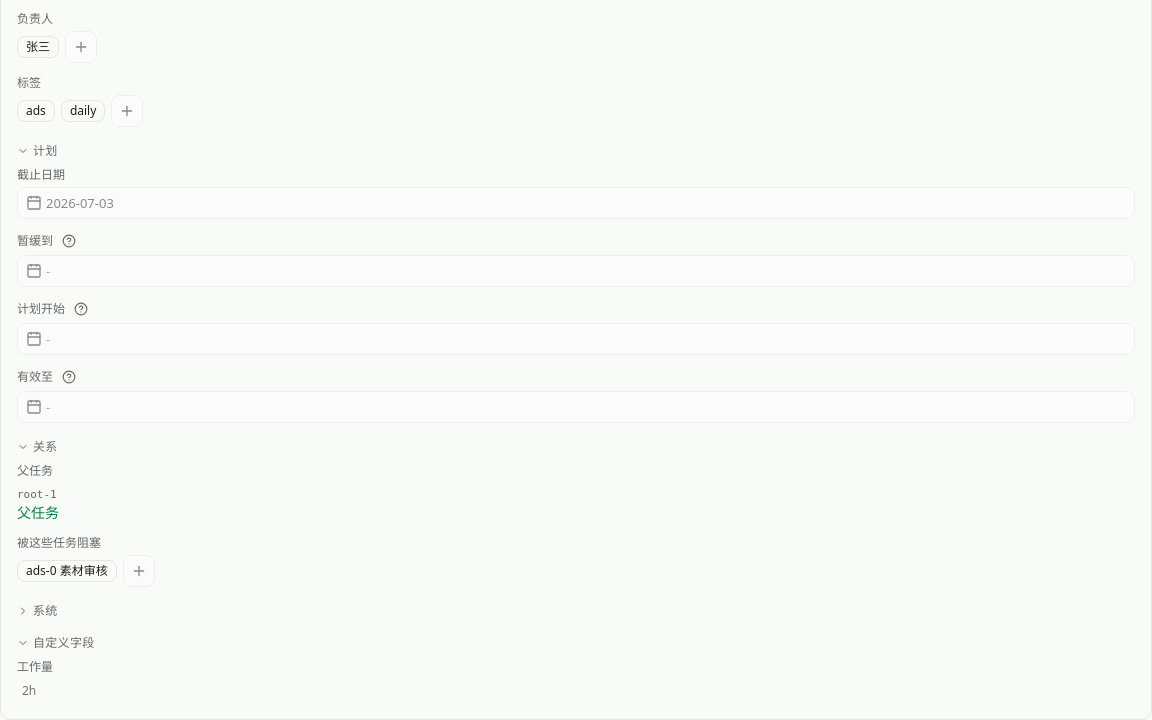
Test: TaskPropertyPanel › renders numeric entry and modified timestamps from occurrence responses
The image size is (1152, 720).
(page scrolled)
Click the button "系统".
click(23, 611)  # box x1=17 y1=603 x2=1135 y2=619
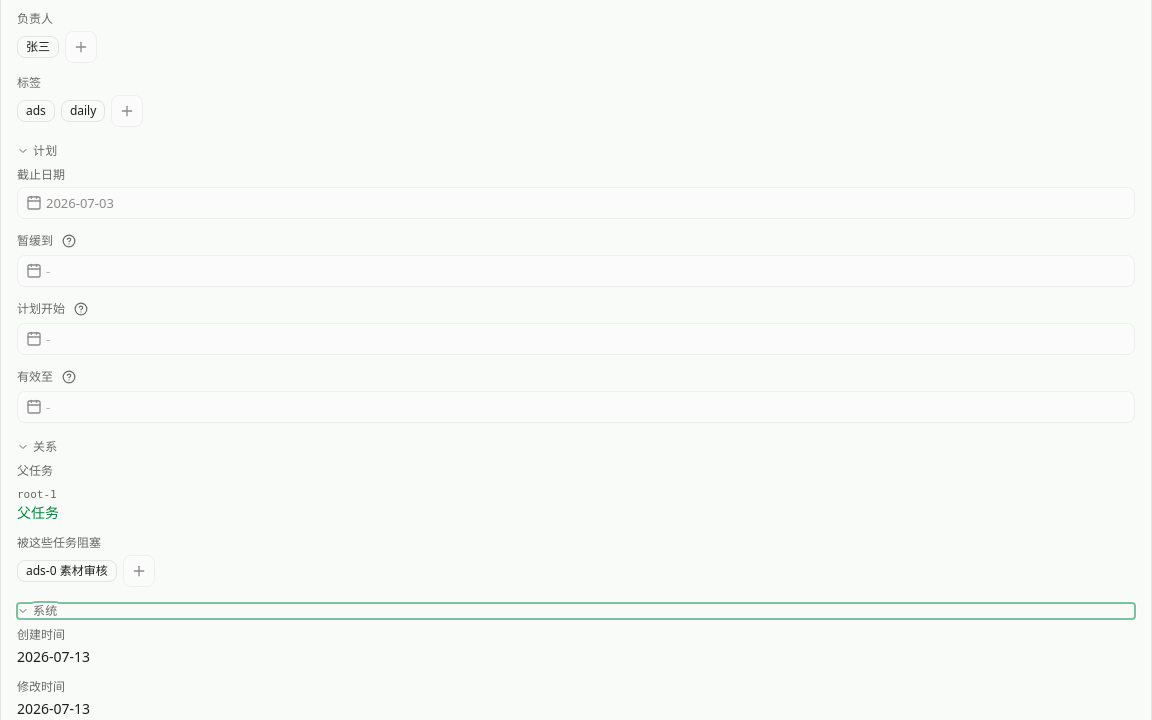
Result: the text "2026-07-13" is shown 2 times at x1=17 y1=647 x2=90 y2=666; x1=17 y1=699 x2=90 y2=718
